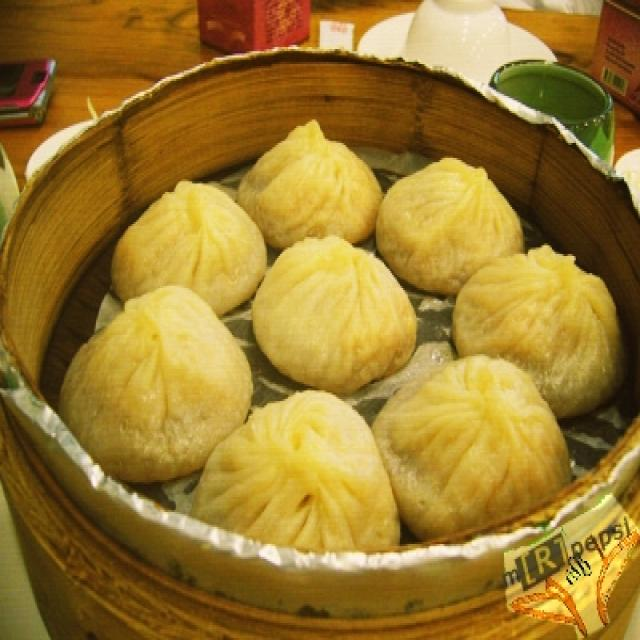带馅早点: (43, 47, 626, 589)
